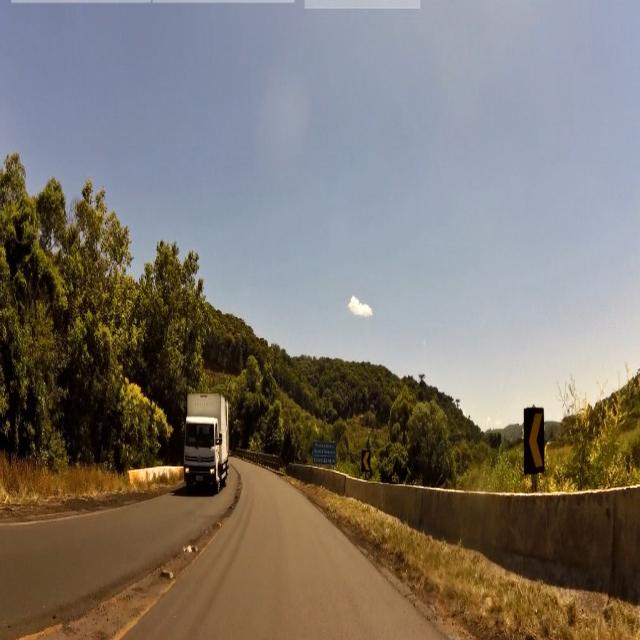Del: (522, 404, 547, 475), (361, 451, 370, 474)
